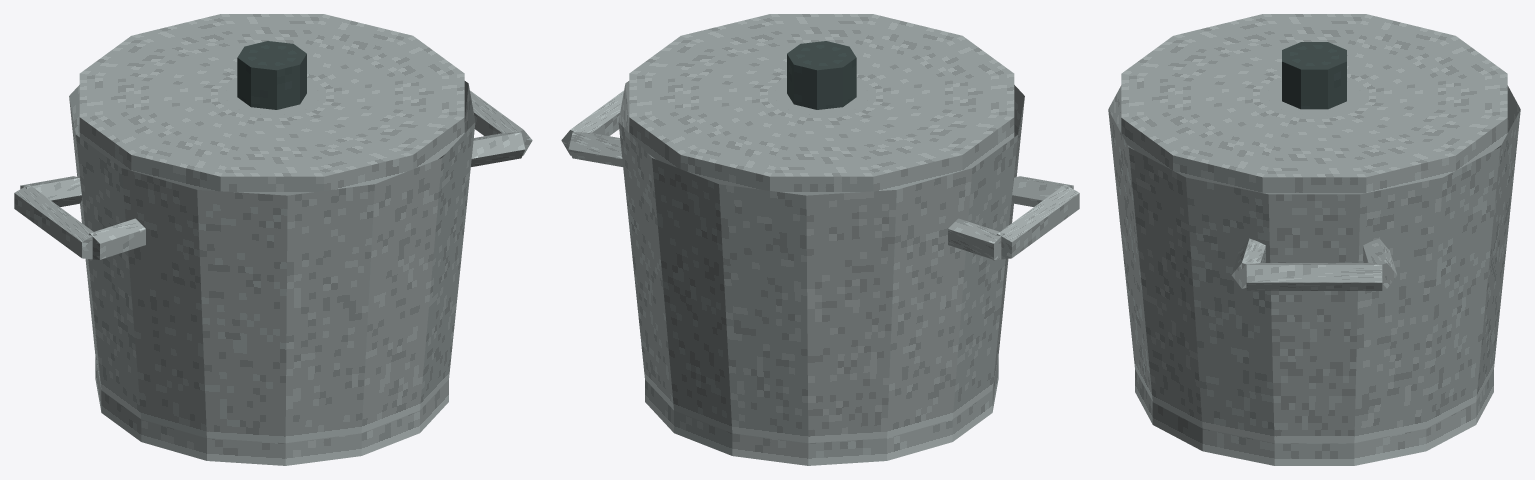
File: pot.glb
3 views of the same model, side by side, from view 1: azimuth 30°, elevation 25°; view 2: azimuth 150°, elevation 25°; view 3: azimuth 270°, elevation 25° (orthographic).
Parts seen in each view (by area): view 1: block_vessel wall, block_lid, block_pressed base, block_knob, block_side grip -1 1, block_side grip -1 2, block_side grip 1 2, block_side grip 1 1, block_side grip -1 0; view 2: block_vessel wall, block_lid, block_pressed base, block_knob, block_side grip -1 1, block_side grip -1 0, block_side grip 1 0, block_side grip 1 1, block_side grip -1 2; view 3: block_vessel wall, block_lid, block_pressed base, block_knob, block_side grip 1 1, block_side grip 1 0, block_side grip 1 2.
Boxes of the visible parts, x1,y1,x2,y2 form: block_vessel wall: (69,81,475,443); block_lid: (79,14,464,195); block_pressed base: (95,357,448,465); block_knob: (237,41,306,109); block_side grip -1 1: (14,184,97,259); block_side grip -1 2: (89,218,145,259); block_side grip 1 2: (471,132,525,166); block_side grip 1 1: (470,90,532,155); block_side grip -1 0: (20,176,81,206); block_vessel wall: (618,81,1024,443); block_lid: (629,14,1014,195); block_pressed base: (645,357,998,465); block_knob: (787,41,856,109); block_side grip -1 1: (996,184,1079,259); block_side grip -1 0: (948,218,1004,259); block_side grip 1 0: (568,132,622,166); block_side grip 1 1: (561,90,623,155); block_side grip -1 2: (1012,176,1073,206); block_vessel wall: (1108,85,1520,443); block_lid: (1121,14,1507,194); block_pressed base: (1135,369,1493,465); block_knob: (1282,42,1346,109); block_side grip 1 1: (1246,263,1382,290); block_side grip 1 0: (1363,238,1397,288); block_side grip 1 2: (1231,238,1265,288).
Size of the model in its own units: 0.19 by 0.135 by 0.1501.
2 materials, 2 textured.
